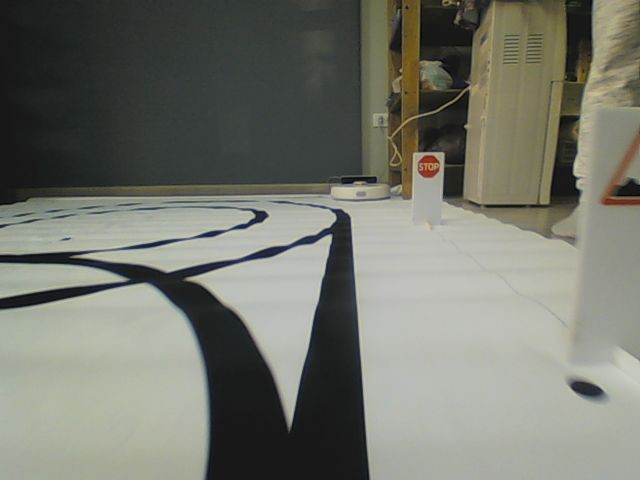Stop: (416, 154, 441, 178)
